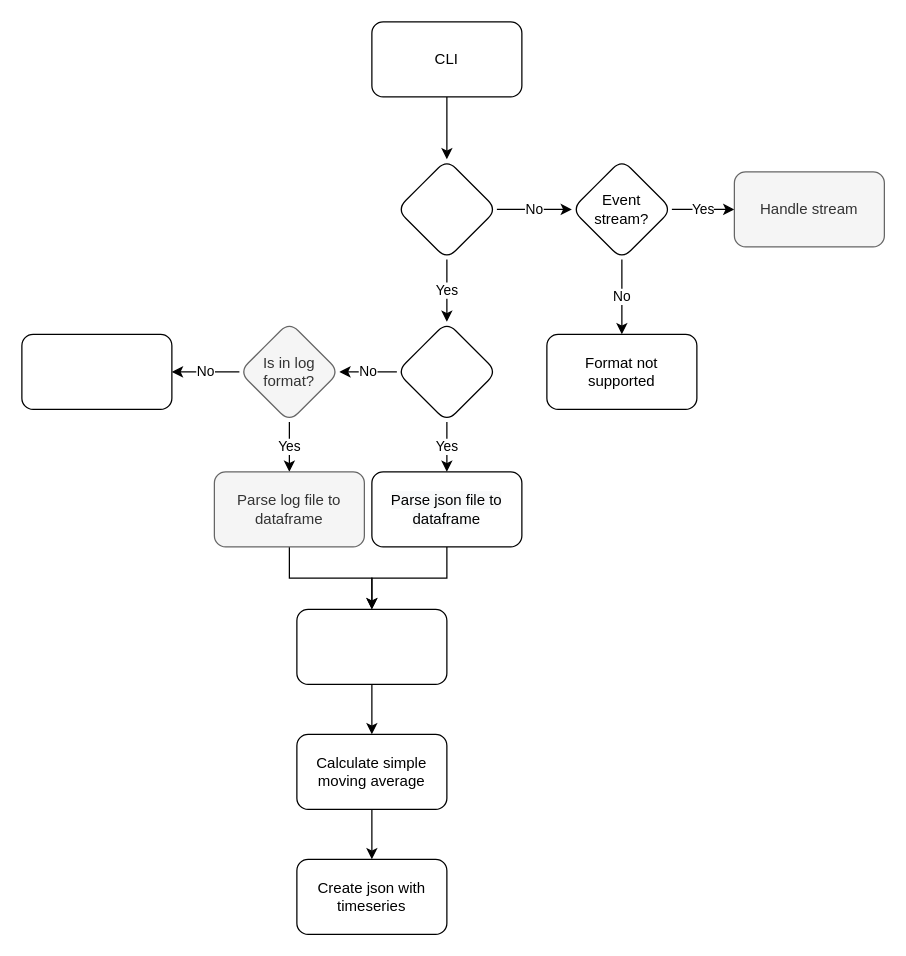
This 906x956 diagram has some shape labels left out. The shapes that lost their labels are listed below. From the top down, each one's box as (x1, y1, x2, y2) in pixels, then its label:
(396, 158, 497, 259): Event file?
(21, 333, 172, 409): File format not supported
(396, 321, 497, 422): Is in json format?
(296, 608, 447, 684): Group data by frequency
